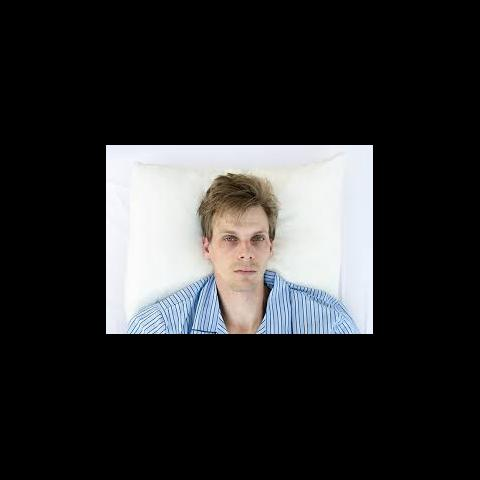opened: (219, 230, 267, 250)
